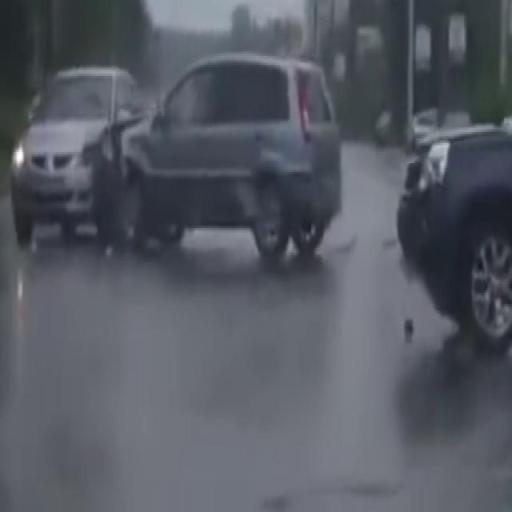小汽车: (393, 115, 512, 340)
小汽车撞小汽车: (8, 56, 343, 266)
